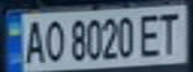0: (118, 12, 139, 60), (84, 16, 103, 62)
2: (100, 14, 121, 61)
8: (66, 16, 87, 62)
A: (21, 17, 45, 64)
E: (136, 11, 166, 58)
O: (42, 16, 66, 64)
T: (154, 8, 187, 56)
